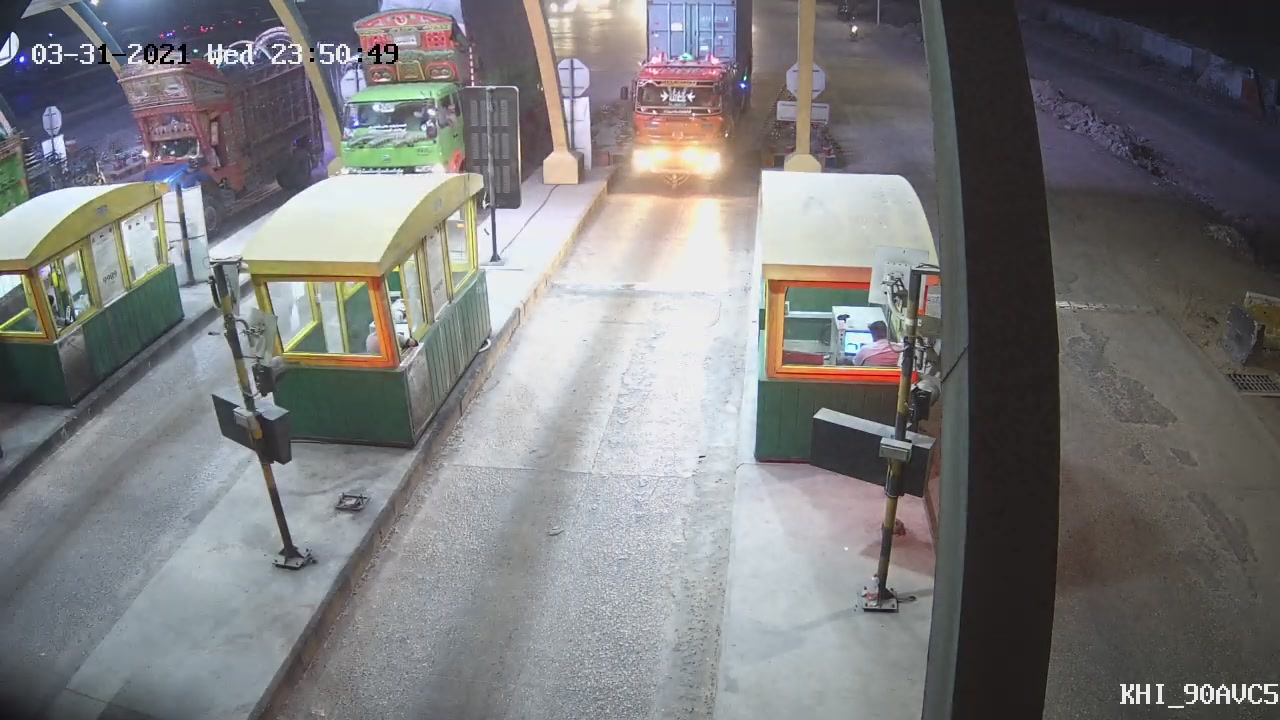F6: (627, 1, 759, 194)
